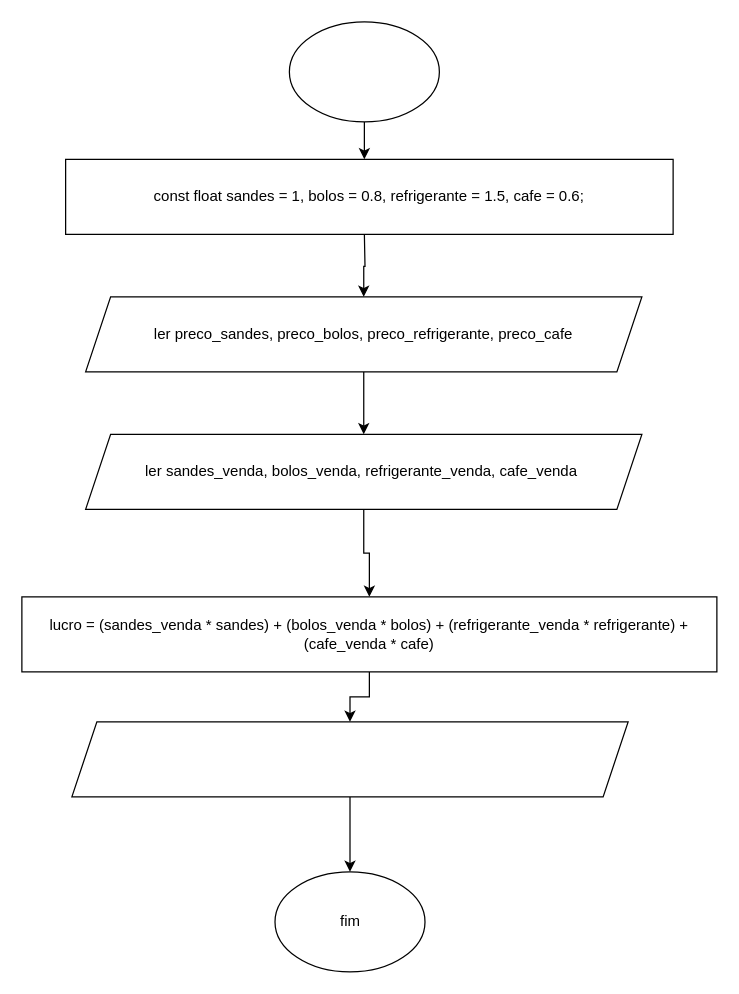
Some shapes in this 739 by 994 pixel diagram are drawn without their labels. The shapes that lost their labels are listed below. From the top down, each one's box as (x1, y1, x2, y2) in pixels, then its label:
(288, 21, 439, 122): inicio
(71, 721, 628, 797): escrever "O lucro foi de: " + lucro + "€";
